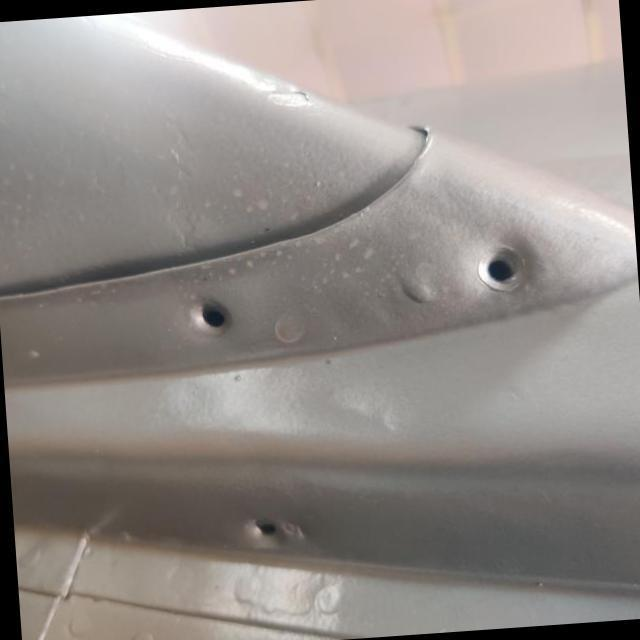Missing Fastener: (478, 245, 524, 289), (188, 298, 232, 334), (251, 517, 281, 543)
